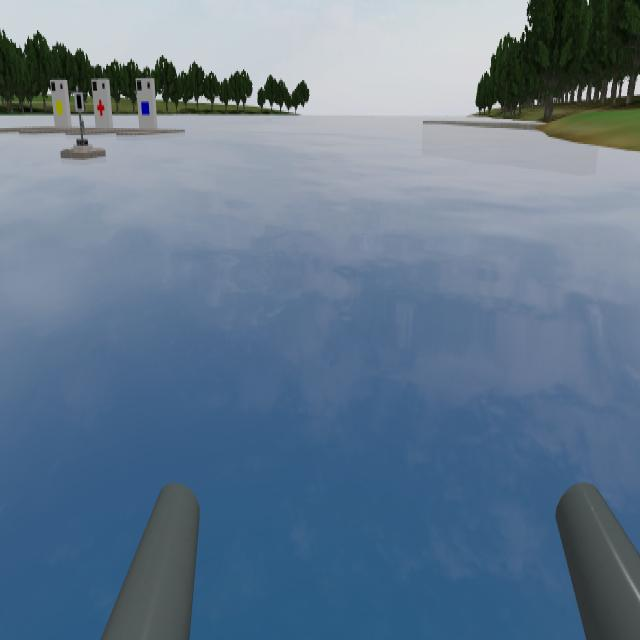black_pole: (74, 89, 90, 116)
